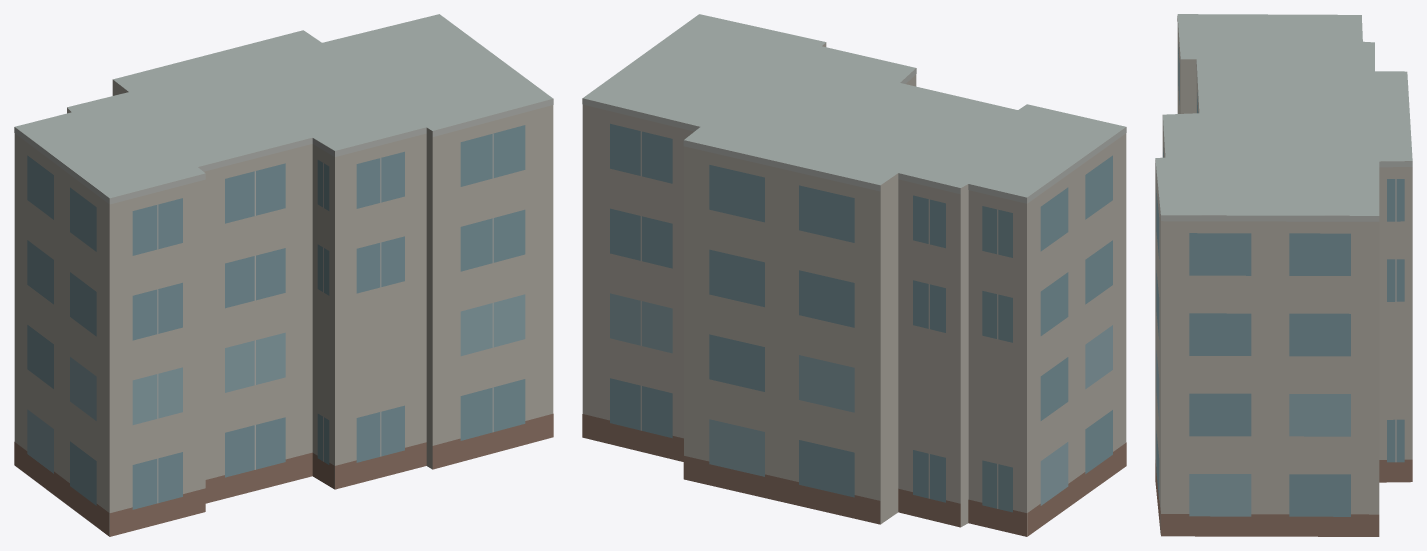
The model's file is survey-upis-32961652.glb.
The picture shows the model from 3 angles, left to right: view 1: azimuth 30°, elevation 25°; view 2: azimuth 150°, elevation 25°; view 3: azimuth 270°, elevation 25°; orthographic projection. The views are drawn at different scales.
Visible parts, largest first — view 1: survey-upis-32961652.tmp; view 2: survey-upis-32961652.tmp; view 3: survey-upis-32961652.tmp.
Part boxes in pixels (left/top/right/bottom): survey-upis-32961652.tmp: left=14, top=14, right=553, bottom=536; survey-upis-32961652.tmp: left=582, top=14, right=1126, bottom=536; survey-upis-32961652.tmp: left=1155, top=14, right=1412, bottom=536.
Size of the model in its own units: 18.01 by 13.35 by 9.71.
